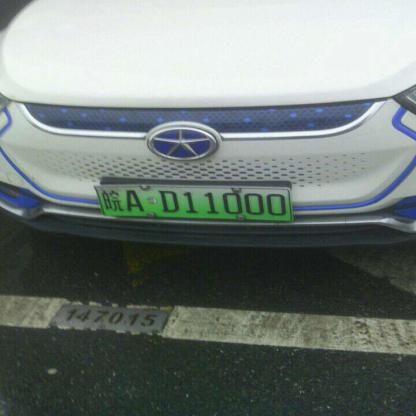lp: (95, 186, 292, 221)
